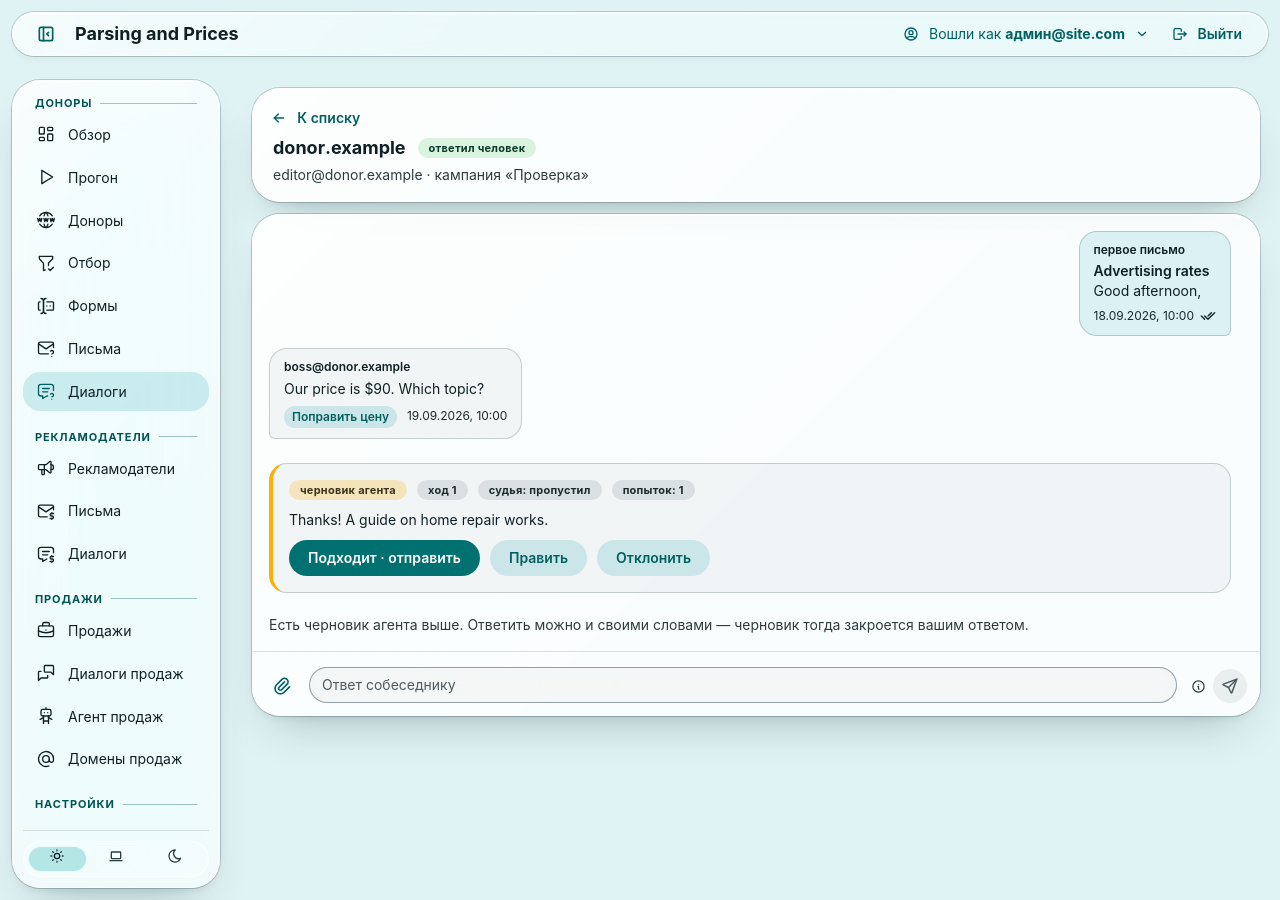
плашка черновика агента › A3: без причины отклонить нельзя; причина — из списка этапа или словами
The width and height of the screenshot is (1280, 900).
Check: the heading "donor.example" is shown, box [273,135,406,161]
Click the button "Отклонить" at (654, 558), box [597,540,710,576]
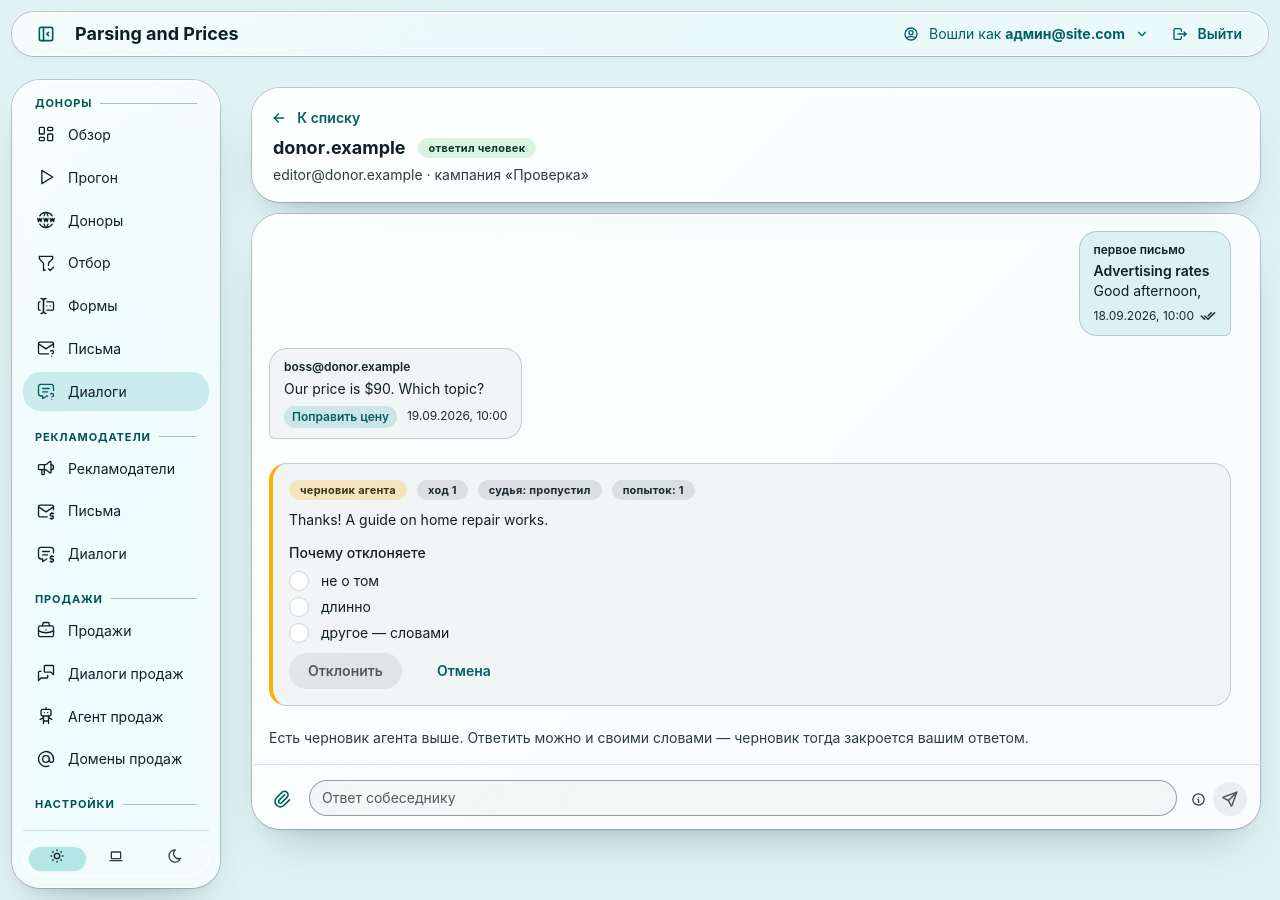
Check: the button "Отклонить" is disabled, box [289,653,402,689]
Check: the radio button labelled "длинно" is shown, box [289,597,309,617]
Click the radio button labelled "другое — словами" at (299, 633), box [289,623,309,643]
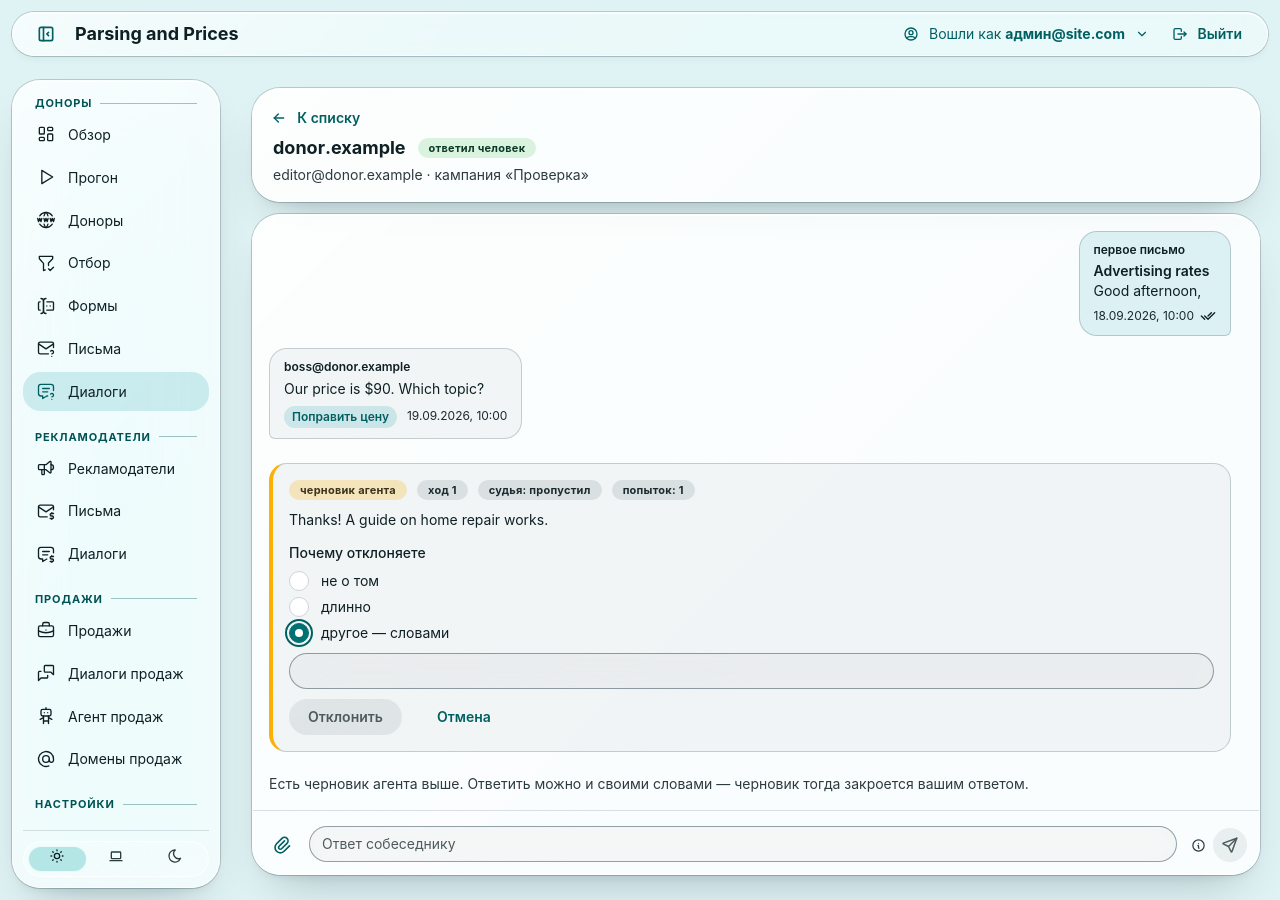
Check: the button "Отклонить" is disabled, box [289,699,402,735]
Type "цена не та" into the field named "Причина словами" at (752, 671), box [289,653,1214,689]
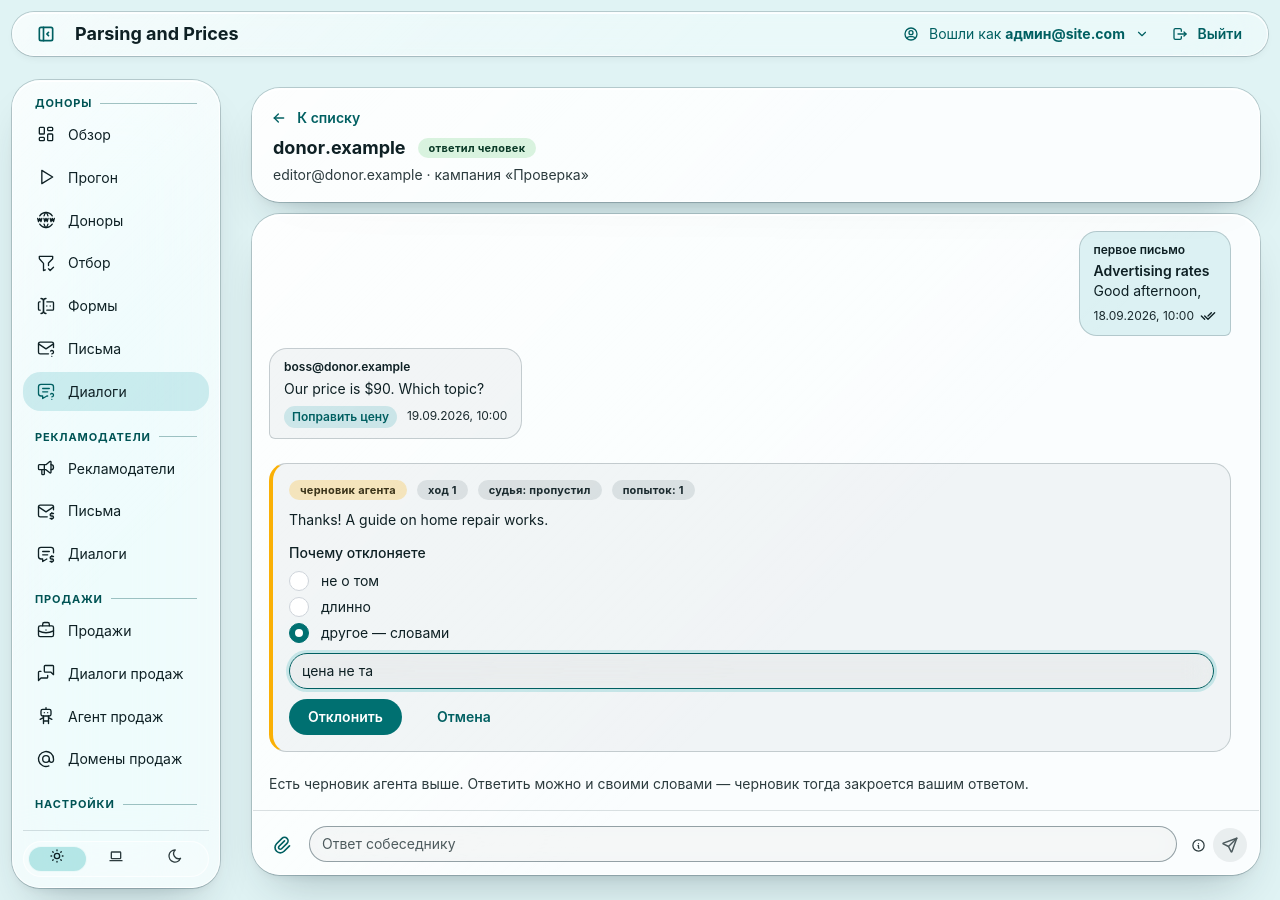
Check: the button "Отклонить" is enabled
Click the button "Отклонить" at (345, 717), box [289,699,402,735]
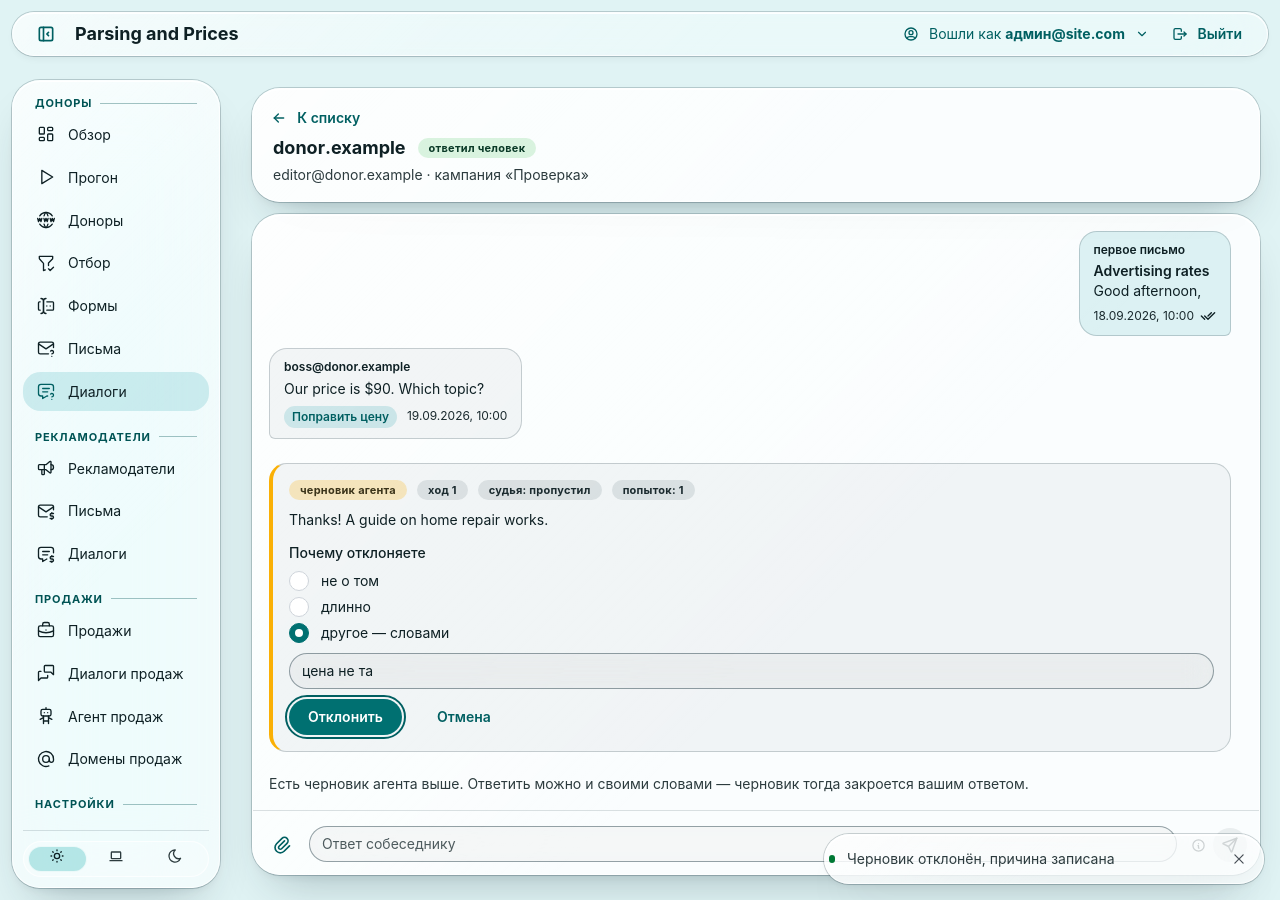
Check: the text "Черновик отклонён, причина записана" is shown, box [847,850,1114,867]
